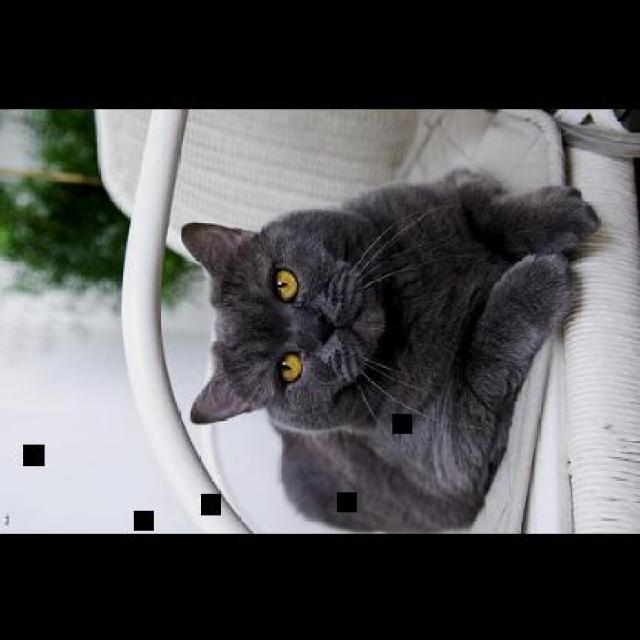unauthorized: (178, 166, 600, 532)
